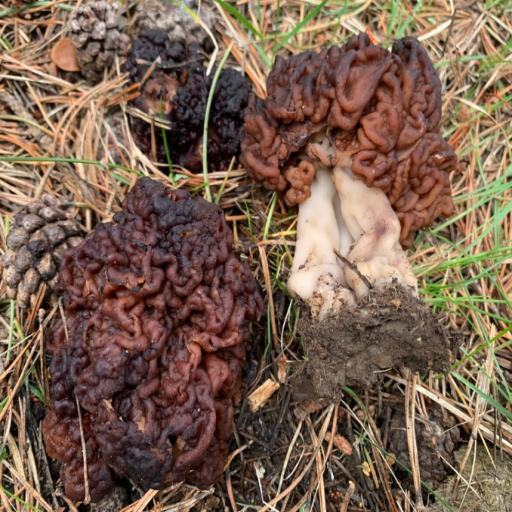mushroom: (236, 21, 496, 377), (61, 185, 252, 492)
